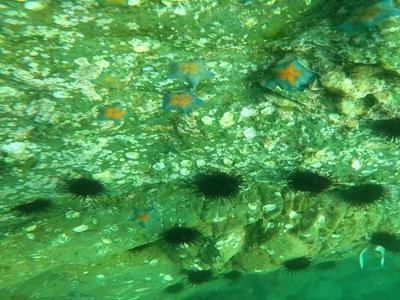urchin: (287, 168, 331, 194), (197, 172, 238, 196), (344, 183, 382, 203), (16, 198, 53, 216), (285, 255, 318, 275), (67, 178, 101, 195), (167, 224, 199, 242), (373, 117, 397, 138), (189, 271, 213, 286)
